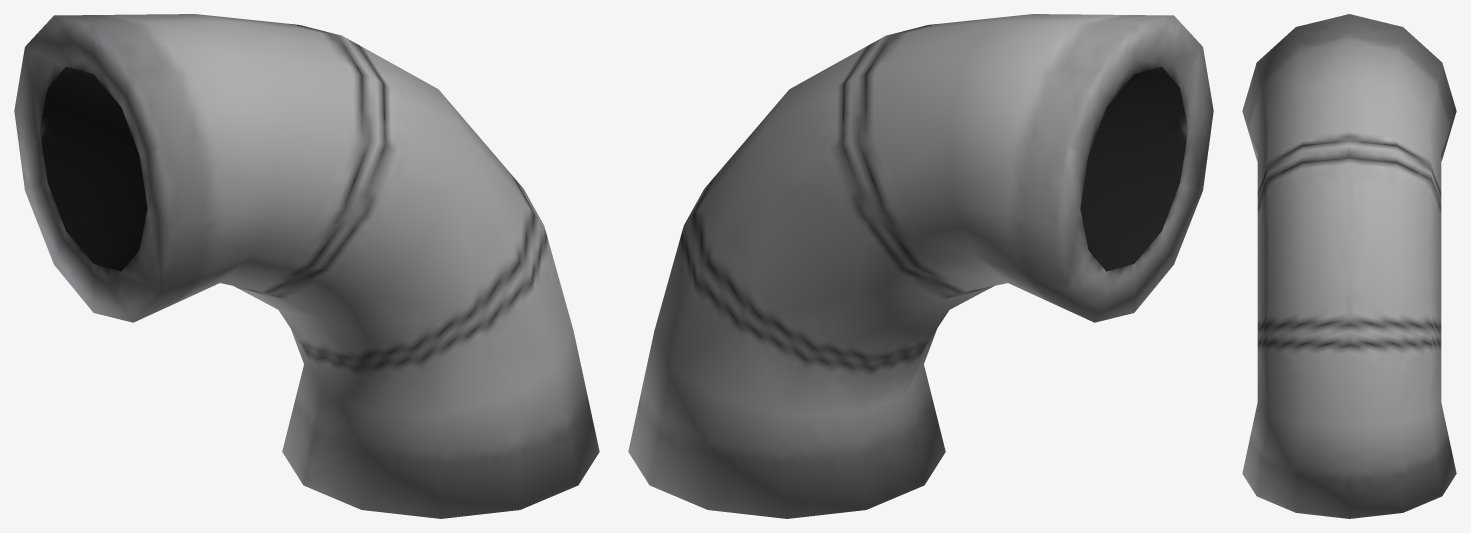
Rendered from Part - Tube 04 corner-Bz63Bduc.glb.
3 views of the same model, side by side, from view 1: azimuth 30°, elevation 25°; view 2: azimuth 150°, elevation 25°; view 3: azimuth 270°, elevation 25° (orthographic). The views are drawn at different scales.
Parts seen in each view (by area): view 1: Tube_04_corner; view 2: Tube_04_corner; view 3: Tube_04_corner.
Part boxes in pixels (x1,y1,x2,y2): Tube_04_corner: [14, 14, 599, 518]; Tube_04_corner: [628, 14, 1213, 518]; Tube_04_corner: [1242, 14, 1456, 518].
Size of the model in its own units: 0.7496 by 0.7557 by 0.4252.
1 material, 1 textured.
